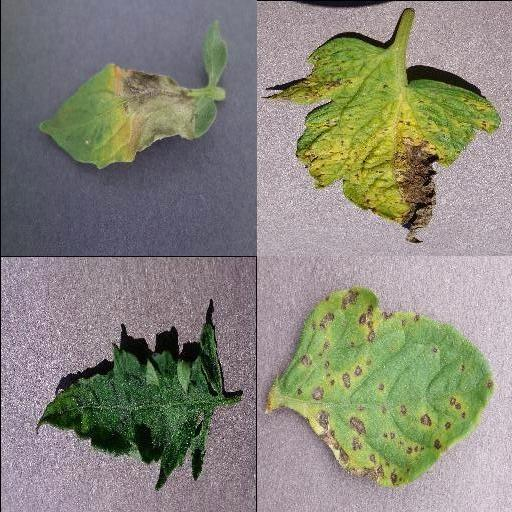Late Blight: (34, 17, 228, 171)
Mosaic Virus: (34, 320, 224, 494)
Septoria: (261, 35, 498, 245), (265, 286, 495, 488)
